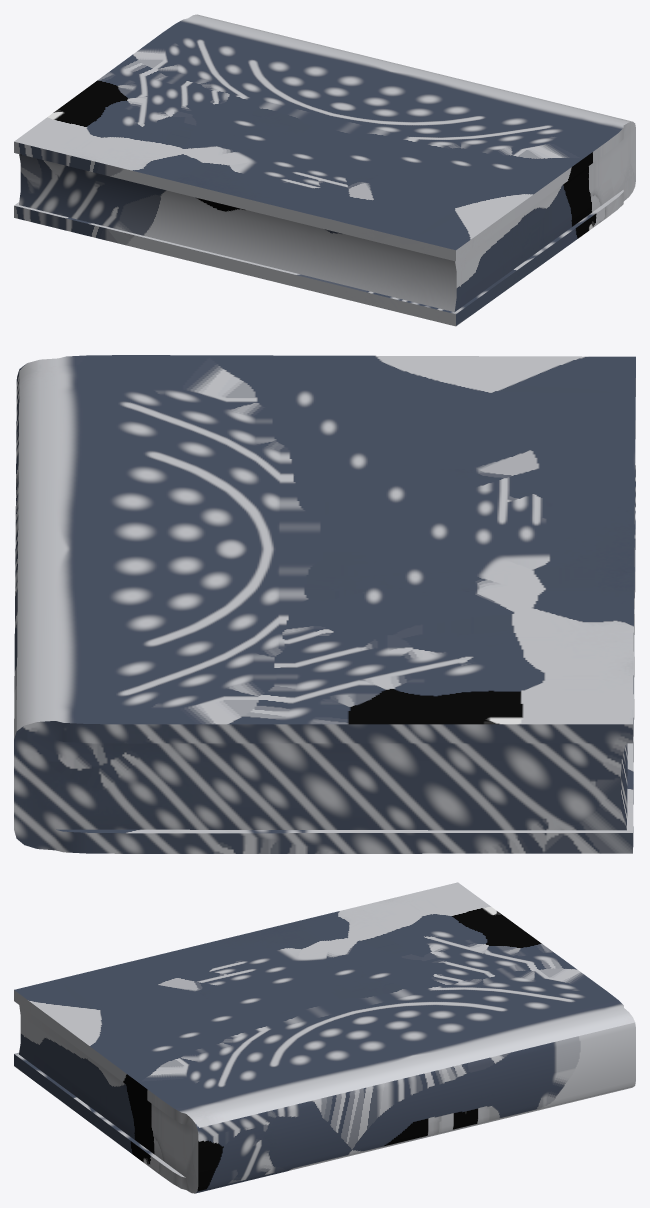
File: Book Closed FBX.fbx
3 renders of one model, top to bottom at view 1: azimuth 30°, elevation 25°; view 2: azimuth 150°, elevation 25°; view 3: azimuth 270°, elevation 25°, orthographic. The views are drawn at different scales.
Parts seen in each view (by area): view 1: Book; view 2: Book; view 3: Book.
Part boxes in pixels (x1,y1,x2,y2): Book: [14, 14, 635, 326]; Book: [14, 355, 635, 853]; Book: [14, 882, 635, 1193].
Size of the model in its own units: 11.01 by 1.63 by 12.04.
